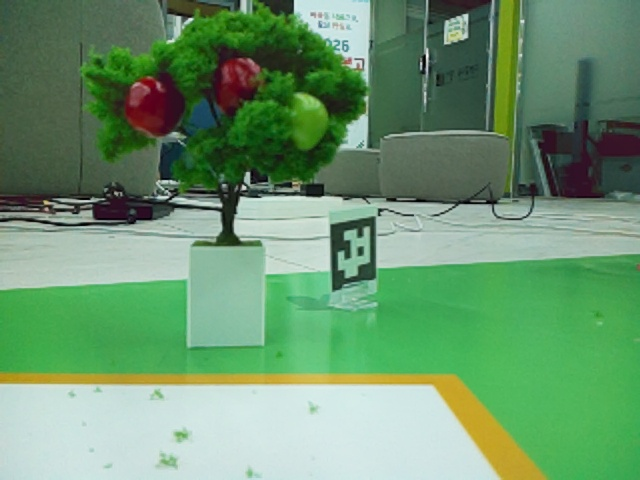apple: (125, 78, 165, 132), (220, 59, 255, 102)
